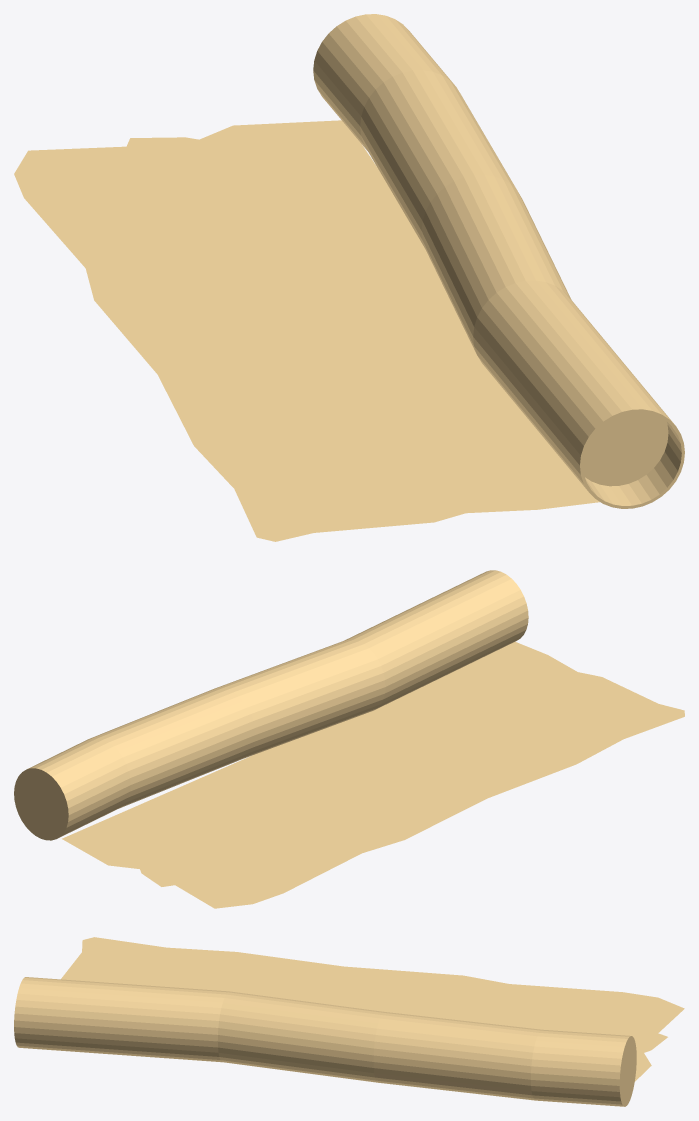
Rendered from papierrolle_flach.glb.
The picture shows the model from 3 angles, top to bottom: view 1: azimuth 30°, elevation 25°; view 2: azimuth 150°, elevation 25°; view 3: azimuth 270°, elevation 25°; orthographic projection. The views are drawn at different scales.
Visible parts, largest first — view 1: Cylinder; view 2: Cylinder; view 3: Cylinder.
Part boxes in pixels (box(x1,y1,x2,y2)): Cylinder: box(14, 14, 684, 541); Cylinder: box(14, 570, 684, 908); Cylinder: box(14, 937, 684, 1106).
Size of the model in its own units: 4.46 by 0.7975 by 7.05.
